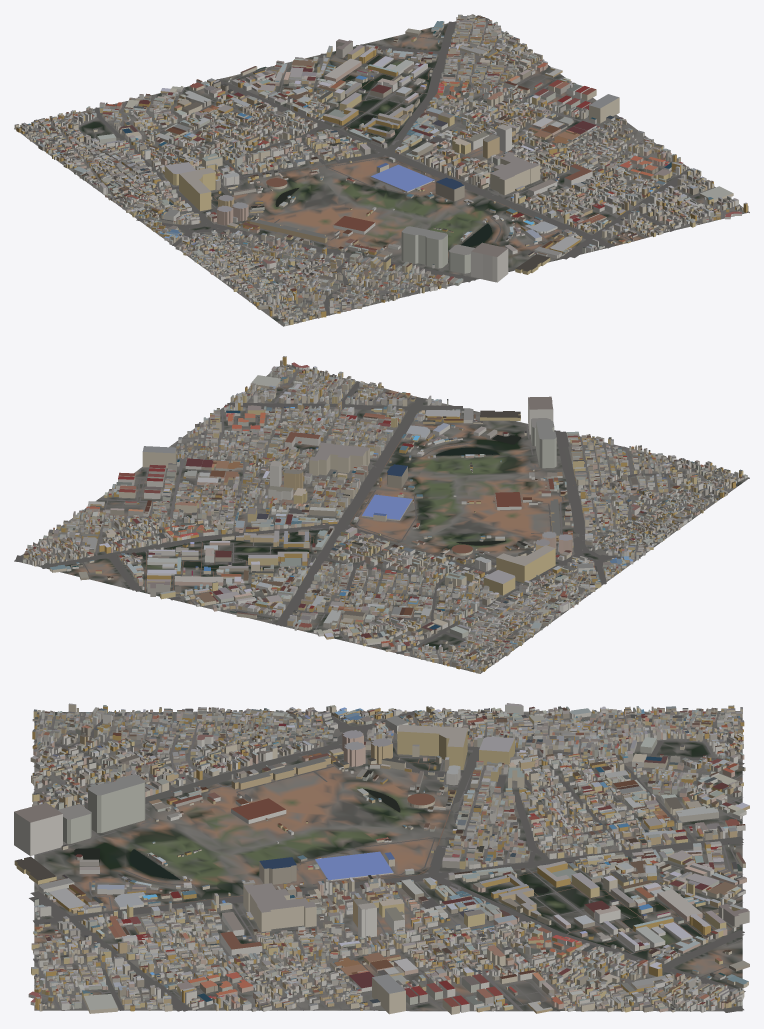
3 renders of one model, top to bottom at view 1: azimuth 30°, elevation 25°; view 2: azimuth 150°, elevation 25°; view 3: azimuth 270°, elevation 25°, orthographic. The views are drawn at different scales.
Parts seen in each view (by area): view 1: buildings, ground, roads, water; view 2: buildings, ground, roads, water; view 3: buildings, ground, roads, water.
Part boxes in pixels (box(x1,y1,x2,y2)): buildings: box(14, 14, 748, 325); ground: box(14, 15, 749, 326); roads: box(19, 15, 743, 325); water: box(275, 115, 491, 246); buildings: box(22, 356, 747, 673); ground: box(14, 364, 749, 673); roads: box(15, 364, 748, 672); water: box(273, 435, 521, 553); buildings: box(14, 703, 749, 1014); ground: box(34, 711, 742, 1011); roads: box(29, 710, 745, 1012); water: box(74, 788, 548, 893).
Size of the model in its own units: 1423 by 86.59 by 1455.
